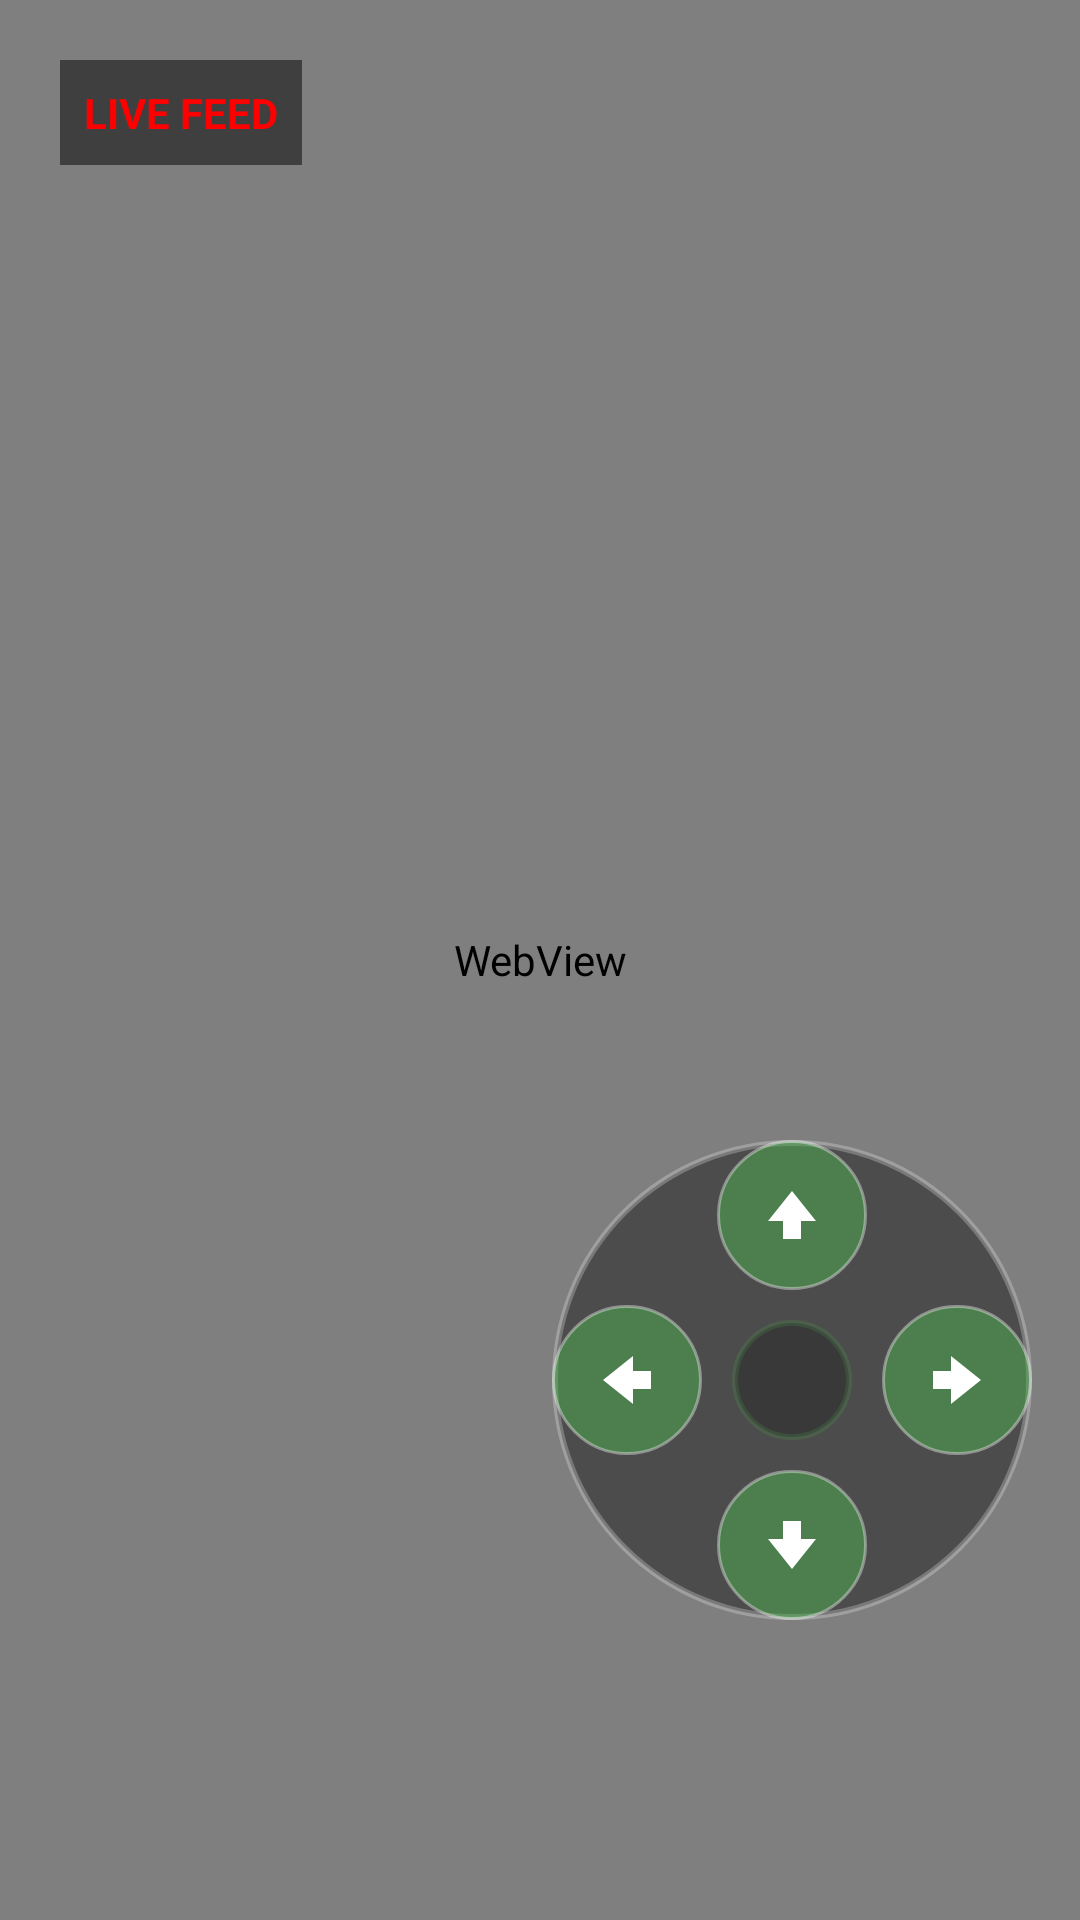

Point at icon controls on the screen. Image size 1080x1920, points as point (x, y).
Bas: point (792, 1545)
Droite: point (957, 1380)
Gauche: point (627, 1380)
Haut: point (792, 1215)
